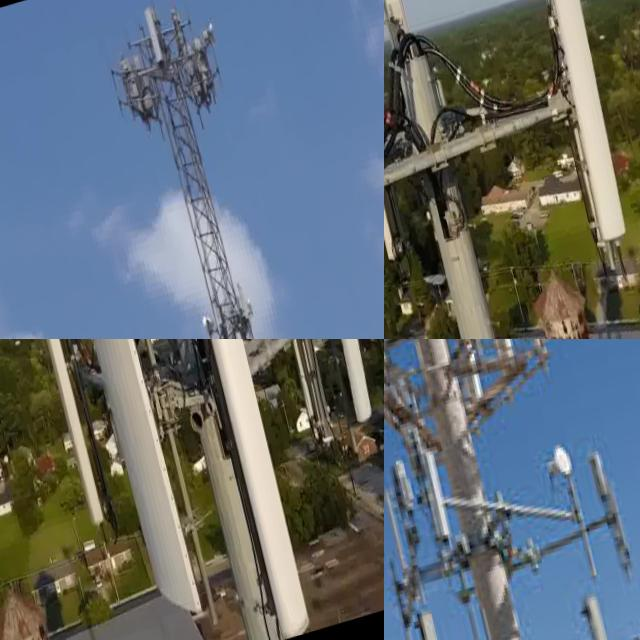GSM Antenna: (38, 339, 212, 636), (155, 339, 316, 640), (510, 0, 640, 268), (18, 339, 112, 530), (248, 339, 343, 452), (277, 339, 382, 434), (587, 452, 640, 588), (384, 0, 407, 263), (411, 440, 460, 545), (575, 585, 634, 640), (140, 5, 170, 71), (414, 605, 465, 640), (384, 0, 415, 56)
Microwave Antenna: (546, 445, 576, 490), (198, 21, 220, 52), (198, 315, 216, 339), (242, 300, 255, 322)
